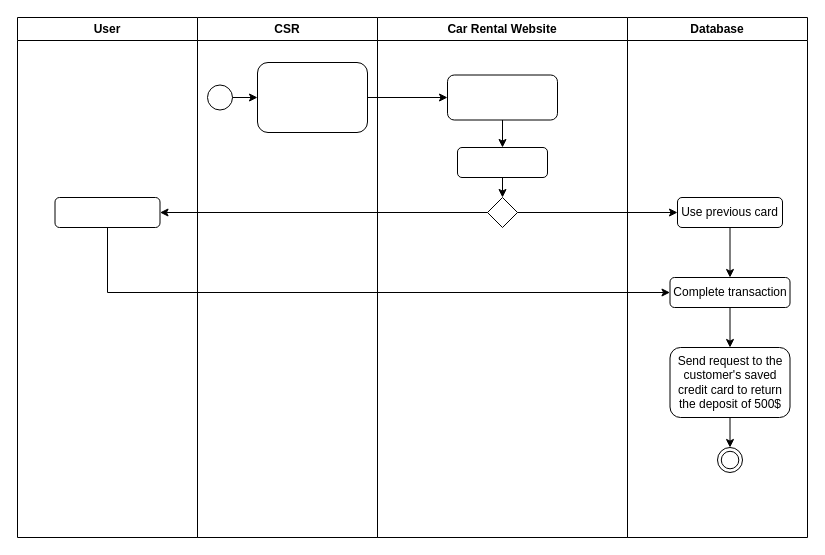
The diagram is 825 pixels wide and 555 high, and some of its shapes have lost their labels. Here are the shapes that lost their labels. From the top down, the centre of each, then its label:
At point 312,97: "Inspect car for damages and generate the final bill".
At point 502,97: "Form to see if there are any damages".
At point 502,162: "Generate bill".
At point 107,212: "Provide new type of payement".
